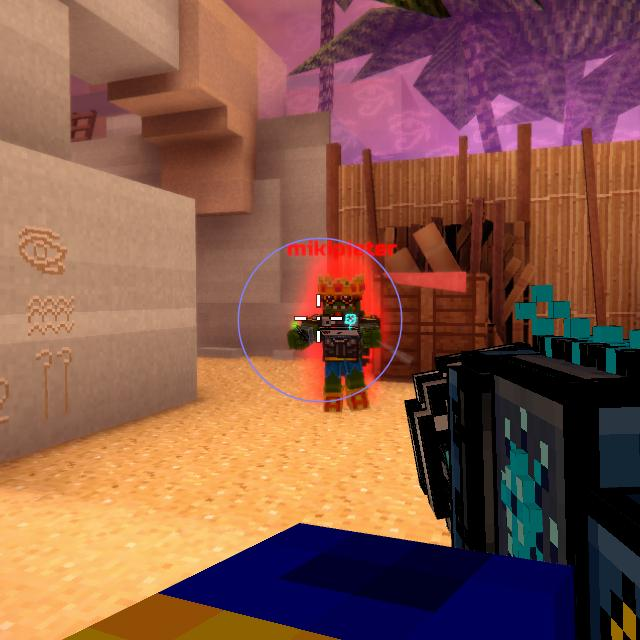Enemy: (287, 278, 381, 413)
